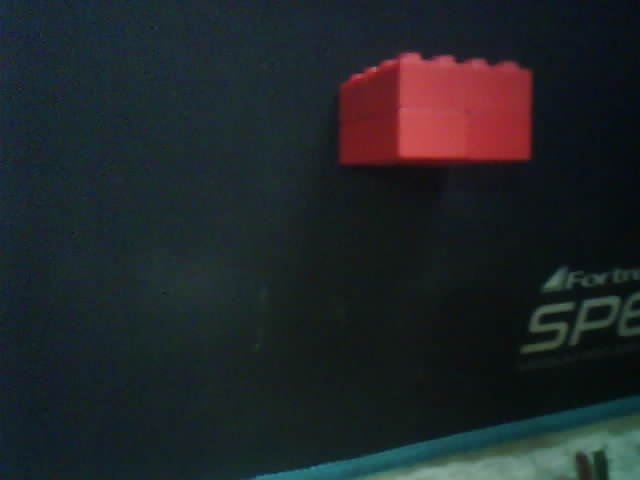lego: (337, 51, 532, 168)
